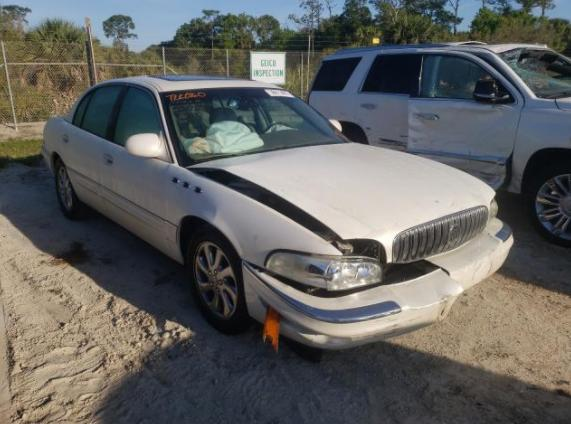Back-bumper: (41, 146, 52, 173)
Back-door: (60, 83, 127, 215)
Back-wheel: (54, 159, 94, 220)
Back-window: (82, 86, 122, 138), (74, 93, 92, 126)
Fender: (167, 162, 344, 268)
Front-bumper: (242, 217, 514, 351)
Front-door: (99, 84, 173, 250)
Front-wheel: (186, 225, 253, 334)
Front-window: (114, 87, 161, 147)
Grille: (392, 206, 488, 264)
Headlight: (264, 250, 382, 291), (491, 196, 498, 219)
Hood: (187, 142, 496, 264)
Mirror: (126, 133, 170, 163), (327, 119, 342, 132)
Quarter-panel: (43, 116, 70, 160)
Rocker-panel: (78, 197, 183, 267)
Roof: (98, 74, 285, 91)
Windshield: (158, 87, 352, 167)
